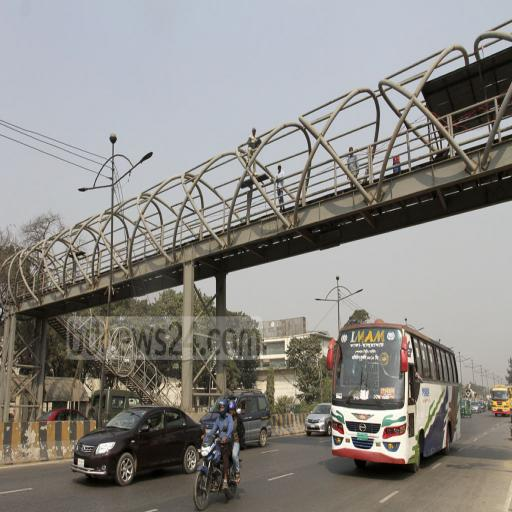bus: (331, 319, 461, 478), (489, 384, 512, 419)
car: (68, 405, 194, 492), (303, 400, 331, 445), (38, 407, 88, 420), (471, 400, 481, 416), (481, 398, 487, 412)
minivan: (202, 388, 274, 450)
motorbike: (195, 431, 245, 512)
suv: (89, 386, 143, 405)
three wheelers (CNG): (461, 398, 471, 419)
